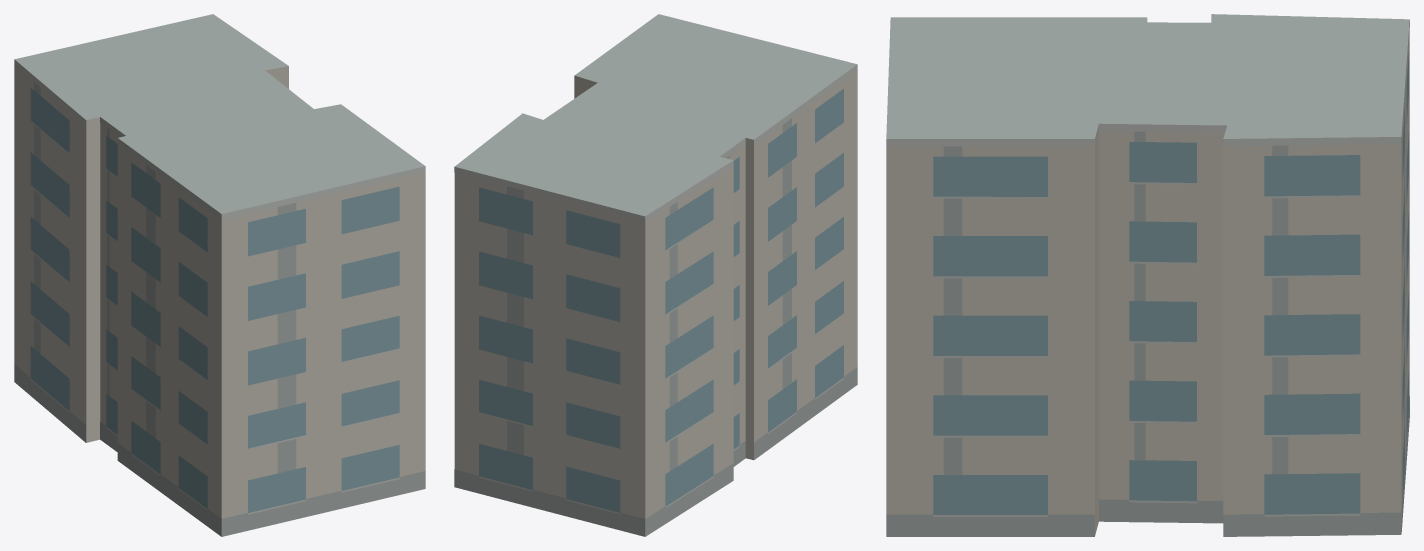
The model's file is survey-upis-32573042.glb.
3 renders of one model, left to right at view 1: azimuth 30°, elevation 25°; view 2: azimuth 150°, elevation 25°; view 3: azimuth 270°, elevation 25°, orthographic. The views are drawn at different scales.
Visible parts, largest first — view 1: survey-upis-32573042.tmp; view 2: survey-upis-32573042.tmp; view 3: survey-upis-32573042.tmp.
Part boxes in pixels (x1,y1,x2,y2): survey-upis-32573042.tmp: [14, 14, 425, 536]; survey-upis-32573042.tmp: [454, 14, 857, 536]; survey-upis-32573042.tmp: [886, 14, 1409, 536].
Size of the model in its own units: 8.84 by 13.1 by 15.63.
